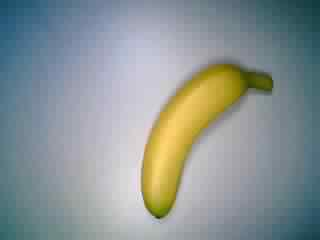banana: (140, 59, 278, 220)
